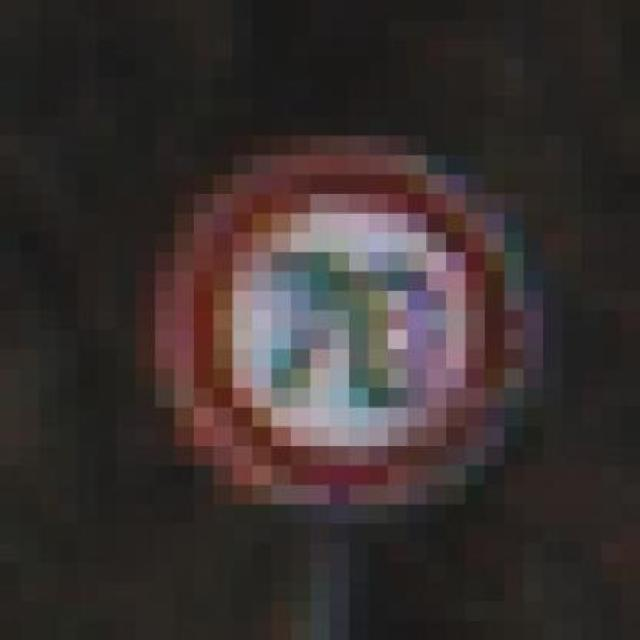forb_speed_over_70: (177, 153, 520, 502)
